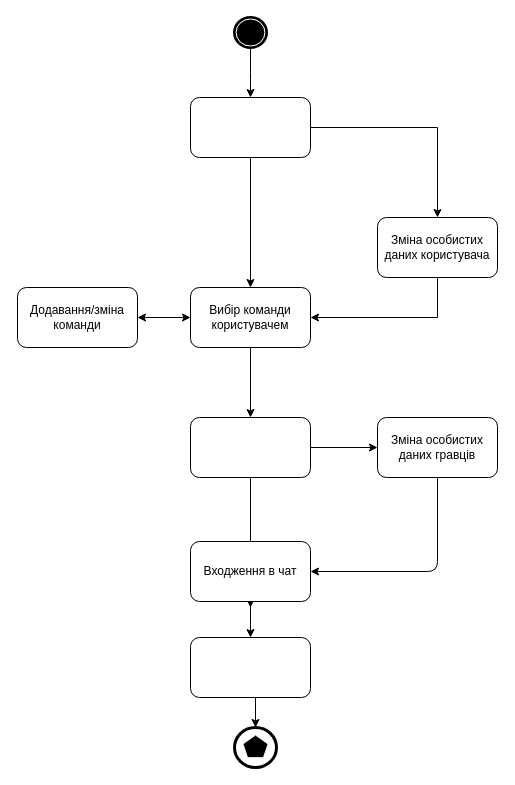
Image size: 515x785. Some labels were removed from this diagram. The centre of each missing label's shape, as x and y in pixels:
Аутентифікація та авторизація користувача: (x=250, y=127)
Зміна команди: (x=250, y=447)
Спілкування з гравцями чи фанами: (x=250, y=667)
